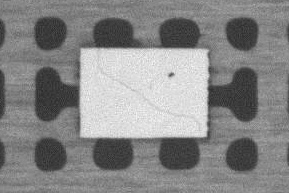DIE_CRACK: (96, 50, 204, 135)
